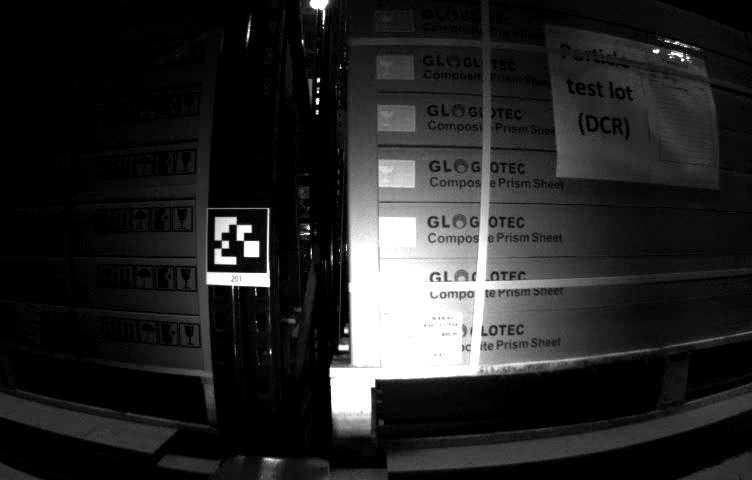True Barcode: (404, 309, 465, 363), (6, 303, 42, 347)
